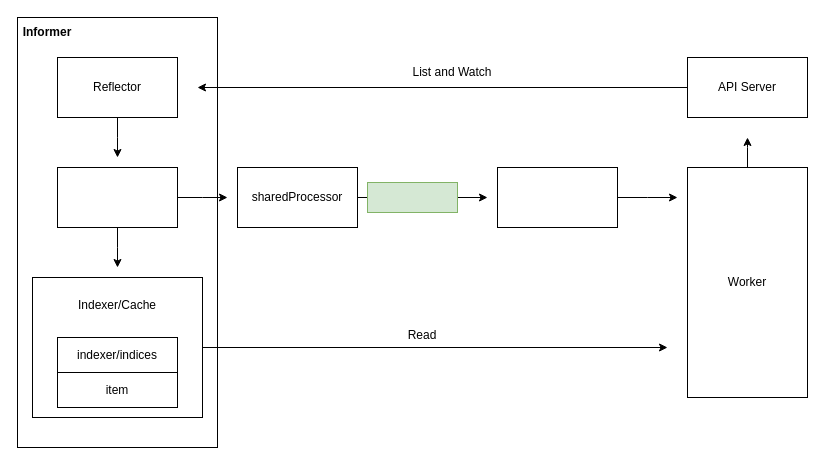
Image size: 825x465. Some labels were removed from this diagram. Here are the shapes that lost their labels. From the top down, the centre of each, then its label:
At point (117, 197): "Delta FIFO Queue".
At point (412, 197): "EventHandler".
At point (557, 197): "WorkQueue".
